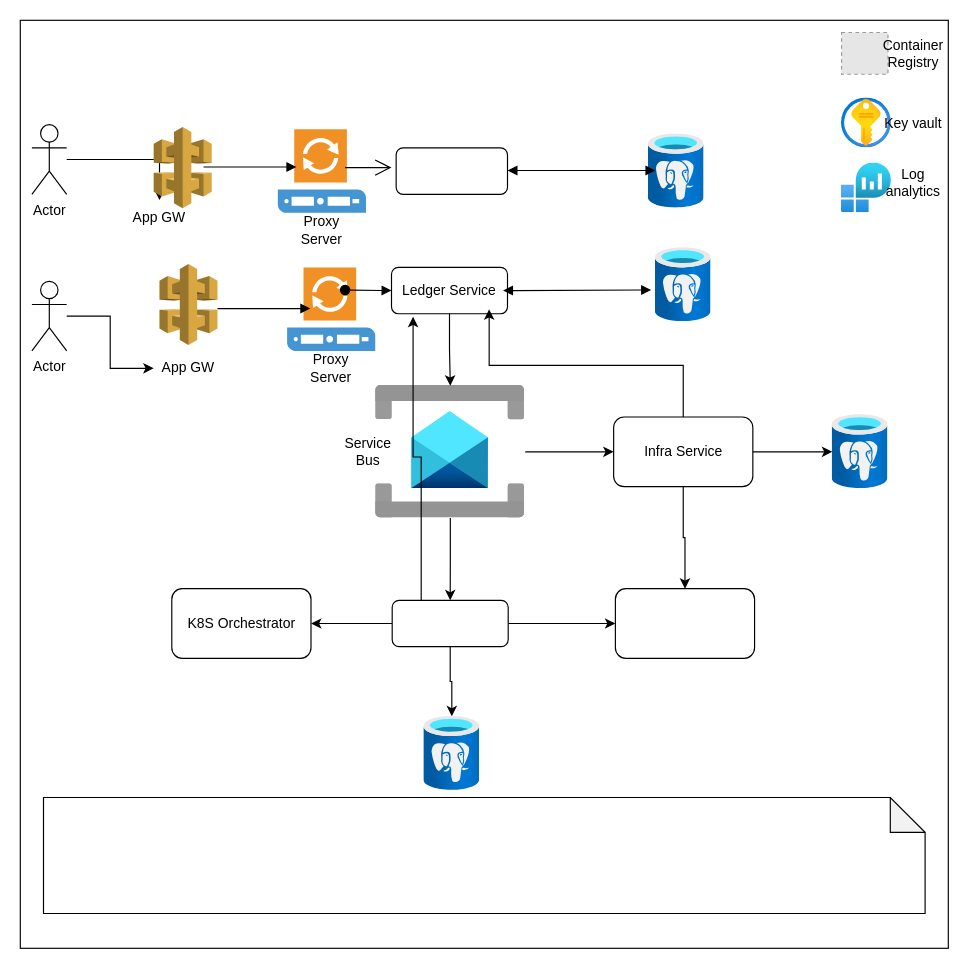
The diagram is 969 pixels wide and 969 high, and some of its shapes have lost their labels. Grey dashed boxes stand in for pictures. Each missing label, with the centre of its shape:
"Azure Resource Manager" goes at pixel 684 623.
"Provisioning Service" goes at pixel 449 623.
"Tenant Service" goes at pixel 451 170.
